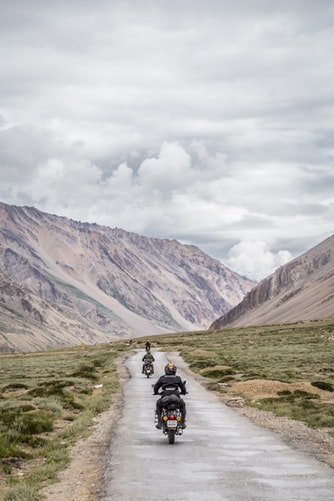helmet: (163, 365, 179, 378)
